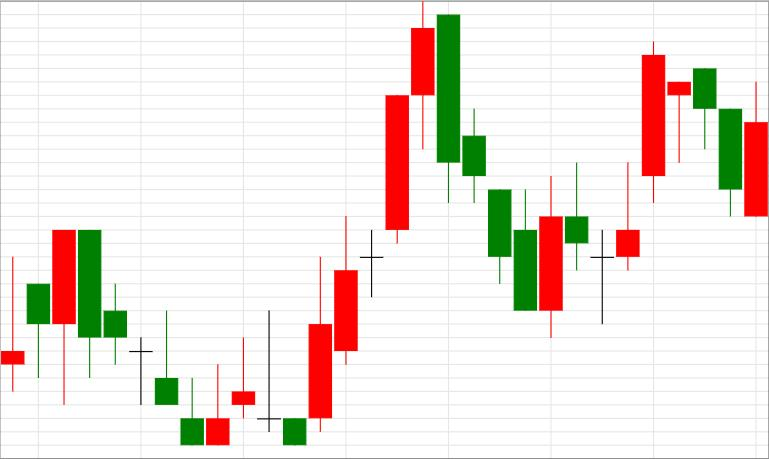bullish_engulfing_rise: (437, 15, 562, 337)
inverse_hammer_rise: (79, 230, 229, 445), (79, 230, 203, 445)
